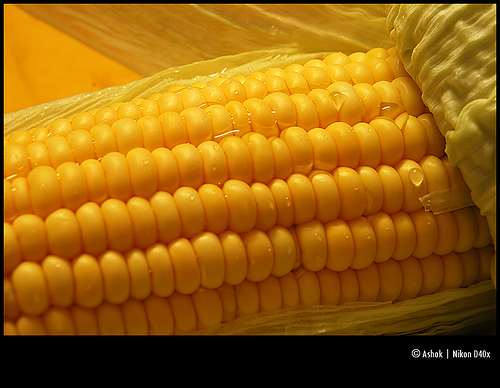corn: (0, 47, 493, 335)
